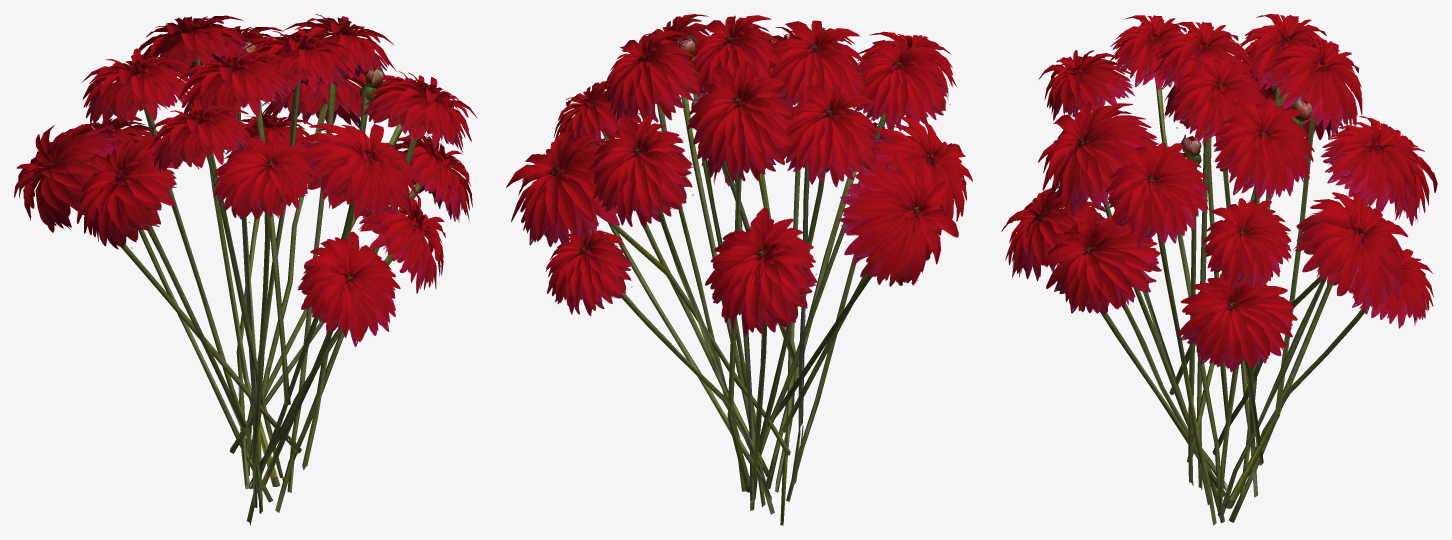
The model's file is red_flower.glb.
3 renders of one model, left to right at view 1: azimuth 30°, elevation 25°; view 2: azimuth 150°, elevation 25°; view 3: azimuth 270°, elevation 25°, orthographic. The views are drawn at different scales.
Parts seen in each view (by area): view 1: bq_Flower_Dahlia-pinnata_F_summer-autumn; view 2: bq_Flower_Dahlia-pinnata_F_summer-autumn; view 3: bq_Flower_Dahlia-pinnata_F_summer-autumn.
Part boxes in pixels (box(x1,y1,x2,y2)): bq_Flower_Dahlia-pinnata_F_summer-autumn: box(14, 14, 477, 525); bq_Flower_Dahlia-pinnata_F_summer-autumn: box(506, 14, 972, 525); bq_Flower_Dahlia-pinnata_F_summer-autumn: box(1001, 14, 1437, 525).
Bounding box in the file's own units: 0.399 × 0.4392 × 0.3592.
2 materials, 2 textured.
